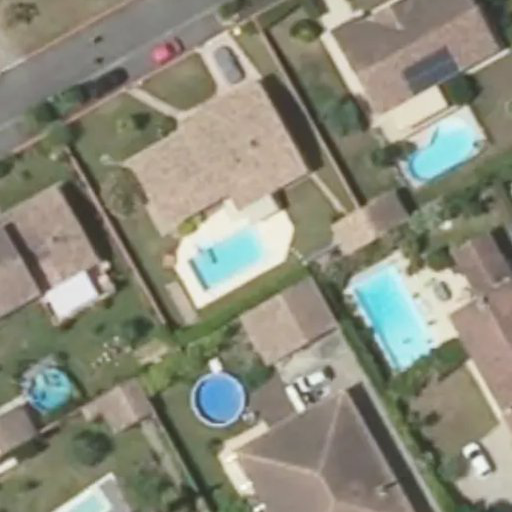pool: (208, 234, 297, 240)
